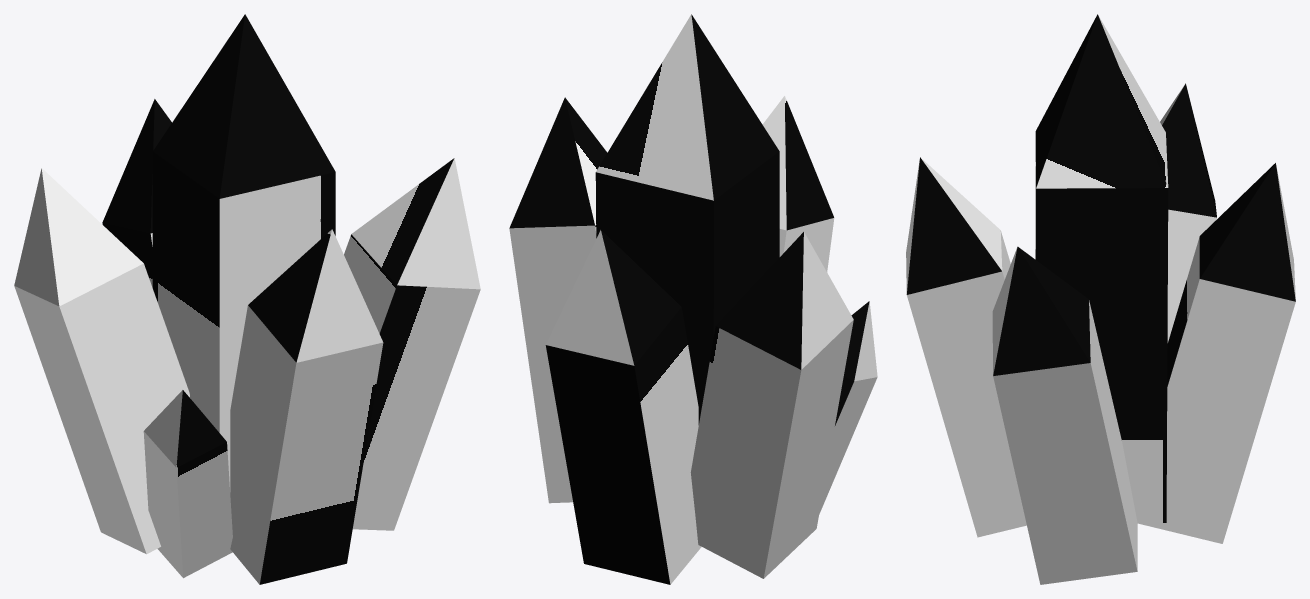
File: crystal.obj
The picture shows the model from 3 angles, left to right: view 1: azimuth 30°, elevation 25°; view 2: azimuth 150°, elevation 25°; view 3: azimuth 270°, elevation 25°; orthographic projection. The views are drawn at different scales.
Parts seen in each view (by area): view 1: Main_Cone; view 2: Main_Cone; view 3: Main_Cone.
Part boxes in pixels (x1,y1,x2,y2): Main_Cone: (14, 14, 480, 584); Main_Cone: (509, 14, 877, 584); Main_Cone: (906, 14, 1295, 584).
Bounding box in the file's own units: 1.56 × 2.15 × 1.48.
